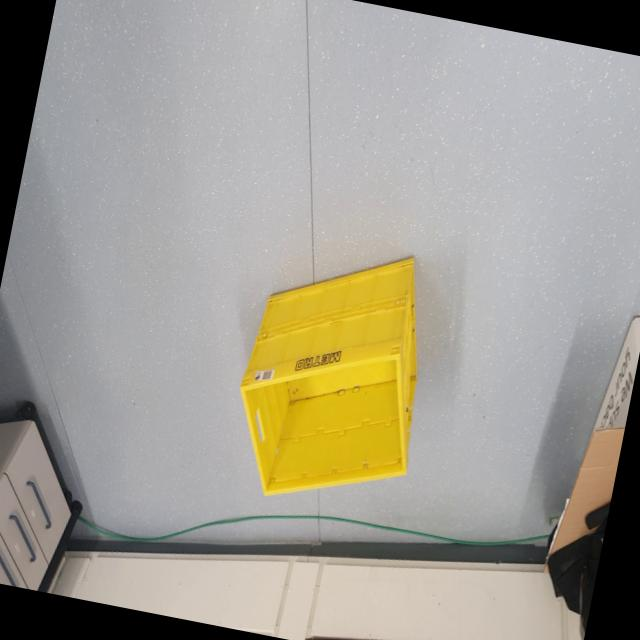box: (213, 216, 463, 527)
